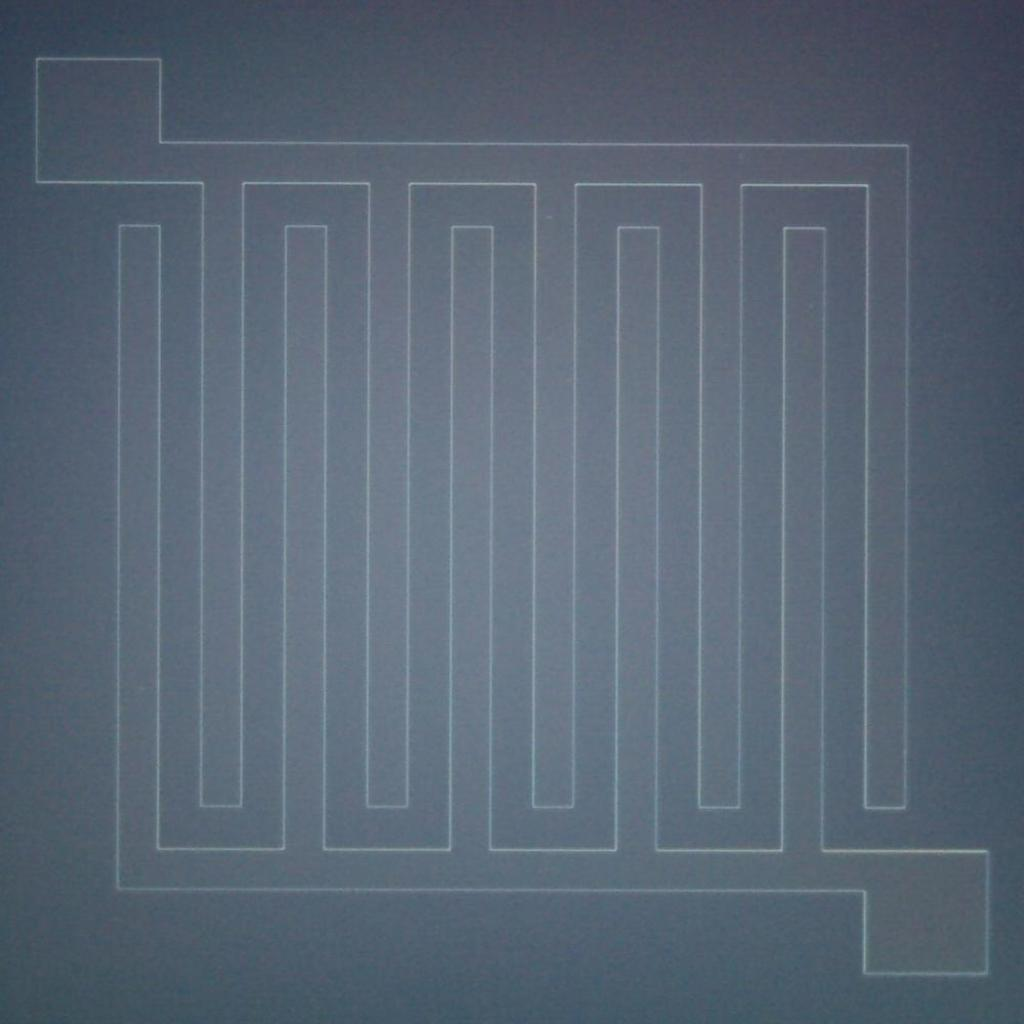dot: (548, 215, 552, 219)
